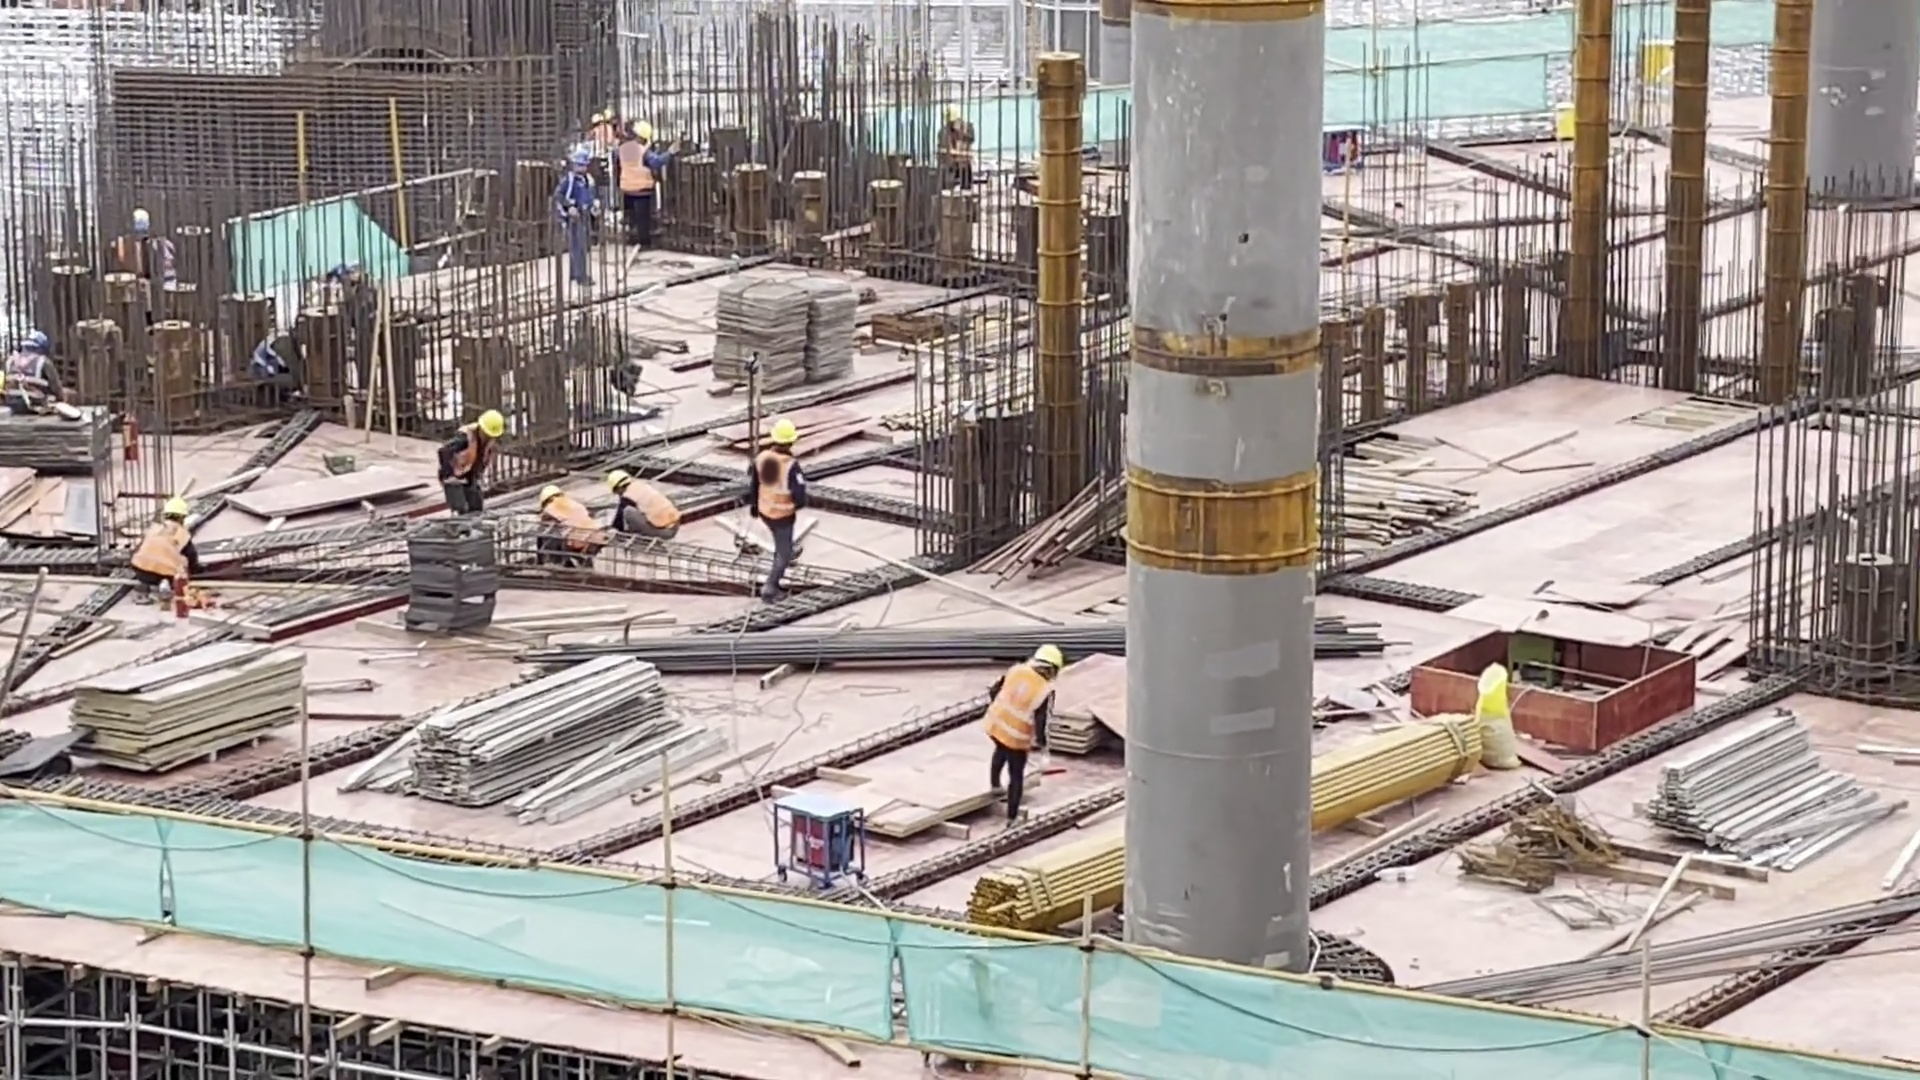helmet: (1034, 638, 1064, 669), (478, 409, 506, 439), (770, 417, 800, 446), (537, 484, 566, 507), (164, 494, 189, 518), (633, 119, 654, 142), (606, 468, 629, 489), (569, 148, 591, 167)
person: (984, 641, 1064, 825), (746, 417, 809, 610), (129, 494, 200, 605), (431, 412, 508, 514), (551, 137, 602, 285), (613, 117, 668, 252), (531, 483, 598, 576), (604, 465, 677, 550), (4, 319, 64, 410)
vest: (986, 660, 1057, 750), (130, 517, 190, 577), (754, 452, 804, 517), (450, 422, 495, 482), (626, 485, 682, 532), (620, 137, 658, 197), (557, 172, 603, 217)
